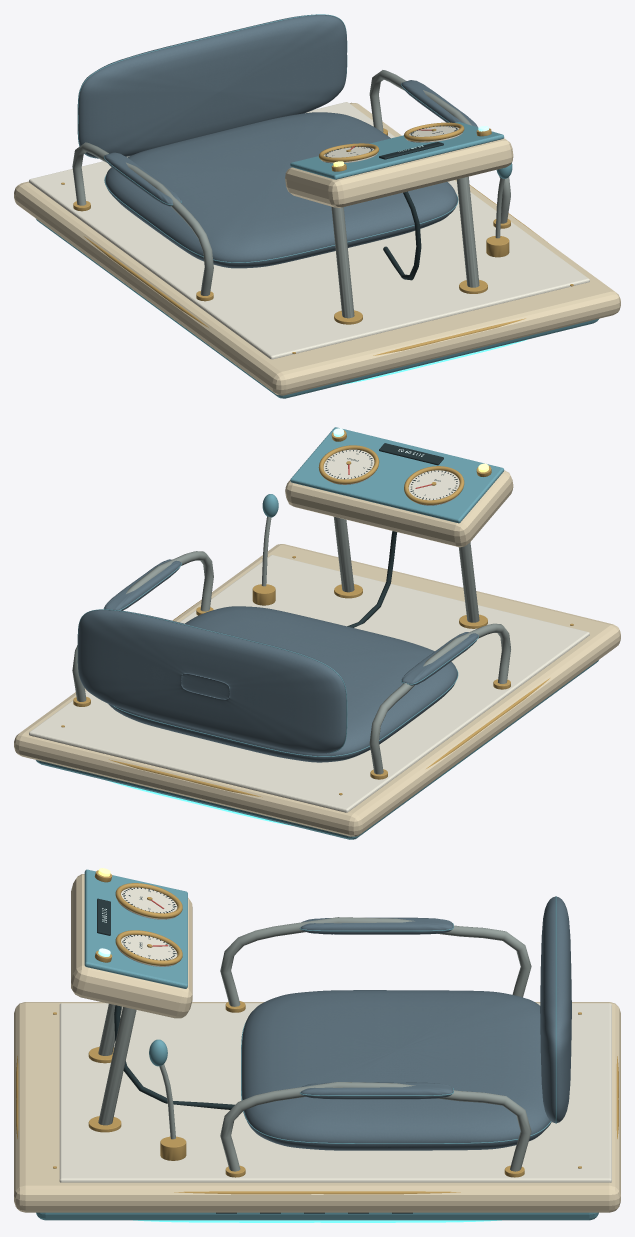
The model's file is time-machine.glb.
3 renders of one model, top to bottom at view 1: azimuth 30°, elevation 25°; view 2: azimuth 150°, elevation 25°; view 3: azimuth 270°, elevation 25°, orthographic. The views are drawn at different scales.
Parts seen in each view (by area): view 1: TM_DeckInset, TM_Cushion_Seat, TM_Cushion_Backrest, TM_Platform_Ivory, TM_Console_CreamBody, TM_Console_BlueFace, TM_Armrest_Rail_L, TM_UndersideCasting, TM_Armrest_Rail_R, TM_Console_Support, TM_Console_Support.001, TM_Armrest_Pad_L (+7 smaller); view 2: TM_DeckInset, TM_Cushion_Backrest, TM_Platform_Ivory, TM_Cushion_Seat, TM_Console_BlueFace, TM_Console_CreamBody, TM_Armrest_Rail_L, TM_UndersideCasting, TM_Armrest_Rail_R, TM_Gauge_ENERGY_Face, TM_Gauge_TIME_Face, TM_Armrest_Pad_L (+8 smaller); view 3: TM_DeckInset, TM_Cushion_Seat, TM_Platform_Ivory, TM_Cushion_Backrest, TM_Console_BlueFace, TM_Console_CreamBody, TM_UndersideCasting, TM_Armrest_Rail_R, TM_Armrest_Rail_L, TM_Armrest_Pad_R, TM_Armrest_Pad_L, TM_Console_Support.001 (+11 smaller).
Part boxes in pixels (bbox=[...]): TM_DeckInset: bbox=[29, 102, 589, 359]; TM_Cushion_Seat: bbox=[105, 112, 457, 268]; TM_Cushion_Backrest: bbox=[78, 14, 346, 158]; TM_Platform_Ivory: bbox=[14, 102, 620, 395]; TM_Console_CreamBody: bbox=[285, 138, 513, 207]; TM_Console_BlueFace: bbox=[290, 122, 504, 179]; TM_Armrest_Rail_L: bbox=[72, 142, 213, 295]; TM_UndersideCasting: bbox=[36, 219, 598, 398]; TM_Armrest_Rail_R: bbox=[369, 70, 510, 223]; TM_Console_Support: bbox=[331, 206, 354, 318]; TM_Console_Support.001: bbox=[456, 176, 479, 287]; TM_Armrest_Pad_L: bbox=[104, 152, 181, 206]; TM_DeckInset: bbox=[29, 555, 589, 812]; TM_Cushion_Backrest: bbox=[77, 609, 346, 753]; TM_Platform_Ivory: bbox=[14, 544, 620, 836]; TM_Cushion_Seat: bbox=[108, 606, 457, 762]; TM_Console_BlueFace: bbox=[290, 427, 504, 523]; TM_Console_CreamBody: bbox=[285, 470, 513, 547]; TM_Armrest_Rail_L: bbox=[369, 623, 510, 774]; TM_UndersideCasting: bbox=[36, 660, 598, 839]; TM_Armrest_Rail_R: bbox=[72, 551, 213, 701]; TM_Gauge_ENERGY_Face: bbox=[323, 449, 374, 484]; TM_Gauge_TIME_Face: bbox=[408, 470, 459, 505]; TM_Armrest_Pad_L: bbox=[401, 632, 478, 685]; TM_DeckInset: bbox=[59, 1003, 611, 1182]; TM_Cushion_Seat: bbox=[241, 990, 551, 1150]; TM_Platform_Ivory: bbox=[14, 1002, 620, 1212]; TM_Cushion_Backrest: bbox=[540, 896, 571, 1122]; TM_Console_BlueFace: bbox=[84, 869, 187, 988]; TM_Console_CreamBody: bbox=[71, 874, 192, 1018]; TM_UndersideCasting: bbox=[36, 1212, 598, 1220]; TM_Armrest_Rail_R: bbox=[220, 1082, 531, 1171]; TM_Armrest_Rail_L: bbox=[220, 917, 531, 1006]; TM_Armrest_Pad_R: bbox=[300, 1082, 453, 1099]; TM_Armrest_Pad_L: bbox=[300, 917, 453, 934]; TM_Console_Support.001: bbox=[98, 1007, 136, 1125].
Size of the model in its own units: 1.5 by 0.8681 by 2.
Materials: 12 (1 with a texture image).
